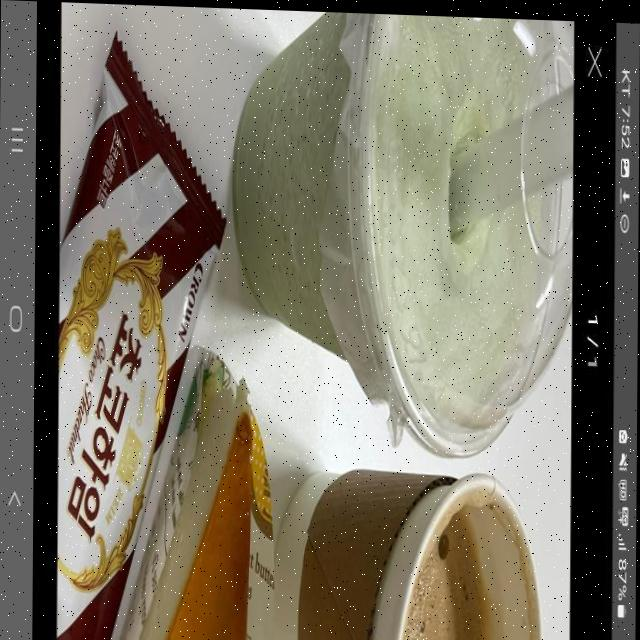cup: (229, 7, 568, 394)
